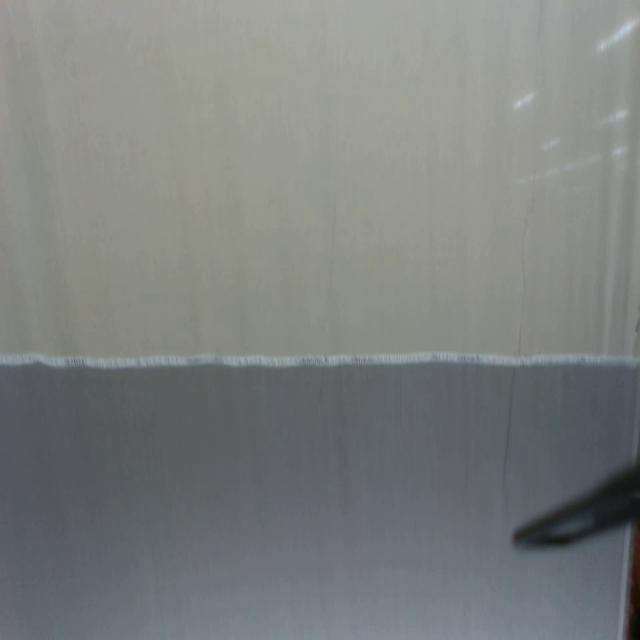crease: (499, 202, 534, 485)
